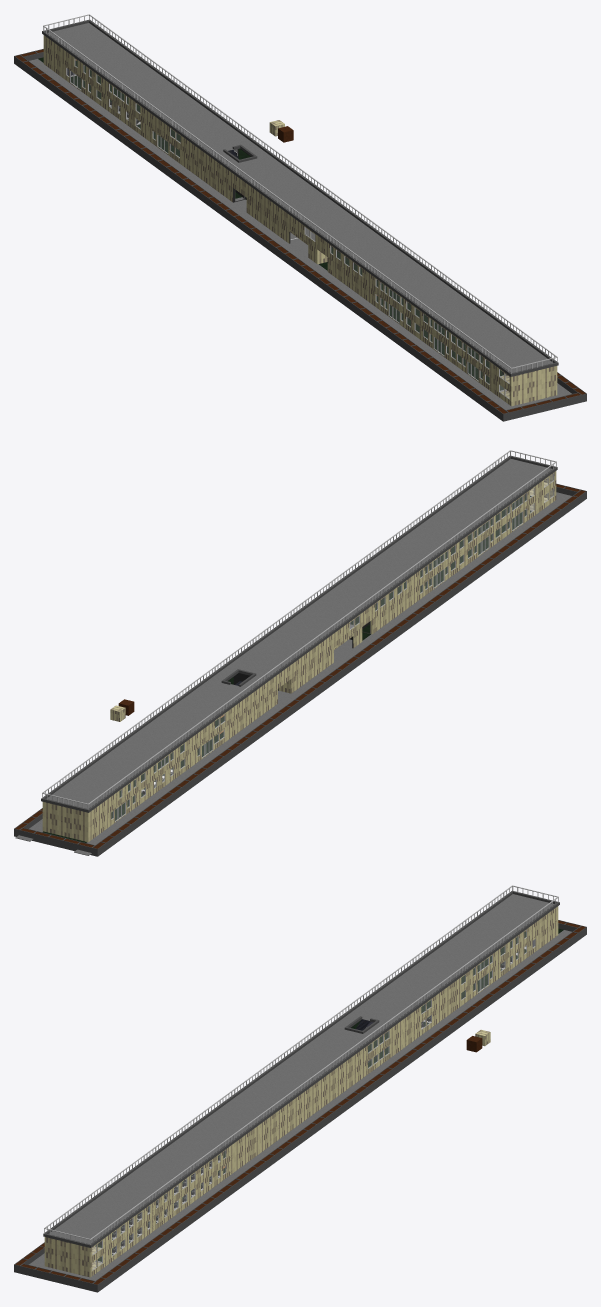
Rendered from build2.glb.
3 renders of one model, top to bottom at view 1: azimuth 30°, elevation 25°; view 2: azimuth 150°, elevation 25°; view 3: azimuth 330°, elevation 25°, orthographic.
Parts seen in each view (by area): view 1: chunk_0_-7, chunk_-1_-3, chunk_-1_-6, chunk_-1_0, chunk_0_-6, chunk_-1_-1, chunk_0_-1, chunk_-1_-4, chunk_0_-4, chunk_-1_-5, chunk_0_-3, chunk_-1_1 (+6 smaller); view 2: chunk_0_1, chunk_0_-6, chunk_-1_-6, chunk_-1_-3, chunk_-1_0, chunk_-1_-1, chunk_0_-1, chunk_-1_-4, chunk_-1_-5, chunk_0_-4, chunk_0_0, chunk_0_-3 (+7 smaller); view 3: chunk_0_-6, chunk_0_-1, chunk_0_-3, chunk_0_0, chunk_0_-4, chunk_0_-5, chunk_0_1, chunk_0_-2, chunk_0_-7, chunk_-1_-7.
Part boxes in pixels (<box>): chunk_0_-7: <box>489,338,586,416</box>; chunk_-1_-3: <box>241,182,317,272</box>; chunk_-1_-6: <box>410,306,485,396</box>; chunk_-1_0: <box>73,59,148,149</box>; chunk_0_-6: <box>430,295,531,383</box>; chunk_-1_-1: <box>132,102,207,186</box>; chunk_0_-1: <box>152,91,283,157</box>; chunk_-1_-4: <box>300,225,376,309</box>; chunk_0_-4: <box>317,214,421,305</box>; chunk_-1_-5: <box>351,268,427,353</box>; chunk_0_-3: <box>261,171,362,256</box>; chunk_-1_1: <box>14,25,91,106</box>; chunk_0_1: <box>14,759,130,842</box>; chunk_0_-6: <box>425,469,526,559</box>; chunk_-1_-6: <box>470,480,553,566</box>; chunk_-1_-3: <box>291,604,384,693</box>; chunk_-1_0: <box>133,727,215,813</box>; chunk_-1_-1: <box>192,684,266,769</box>; chunk_0_-1: <box>120,673,248,765</box>; chunk_-1_-4: <box>361,560,435,646</box>; chunk_-1_-5: <box>418,524,494,609</box>; chunk_0_-4: <box>315,549,417,640</box>; chunk_0_0: <box>87,716,189,802</box>; chunk_0_-3: <box>256,593,357,661</box>; chunk_0_-6: <box>71,1172,190,1267</box>; chunk_0_-1: <box>350,968,468,1057</box>; chunk_0_-3: <box>240,1048,359,1143</box>; chunk_0_0: <box>409,925,527,1020</box>; chunk_0_-4: <box>181,1092,300,1180</box>; chunk_0_-5: <box>130,1135,249,1224</box>; chunk_0_1: <box>468,885,586,977</box>; chunk_0_-2: <box>299,1011,418,1100</box>; chunk_0_-7: <box>34,1215,131,1292</box>; chunk_-1_-7: <box>14,1209,70,1276</box>.
Bounding box in the file's own units: 25.96 × 7.96 × 175.
Materials: 21 (12 with a texture image).
